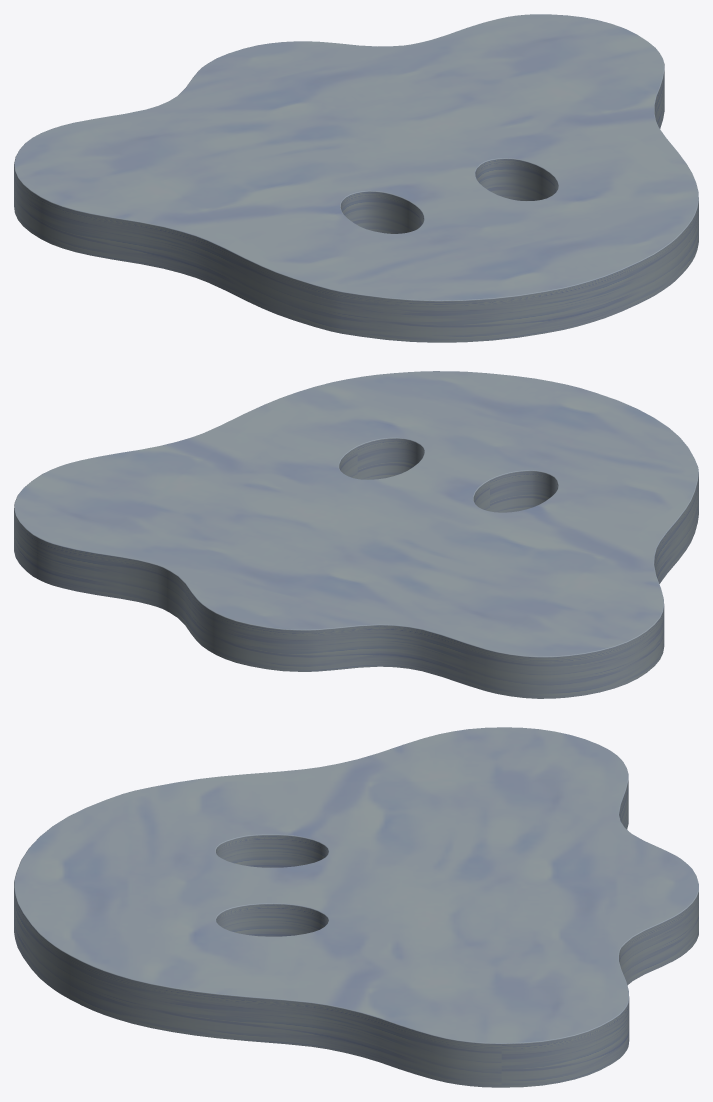
Rendered from ghost-island.glb.
3 renders of one model, top to bottom at view 1: azimuth 30°, elevation 25°; view 2: azimuth 150°, elevation 25°; view 3: azimuth 270°, elevation 25°, orthographic. The views are drawn at different scales.
Visible parts, largest first — view 1: geometry_0; view 2: geometry_0; view 3: geometry_0.
Boxes of the visible parts, x1=… form: geometry_0: x1=14, y1=14, x2=698, y2=342; geometry_0: x1=14, y1=371, x2=698, y2=698; geometry_0: x1=14, y1=727, x2=698, y2=1087.
Size of the model in its own units: 91.94 by 6 by 84.13.
1 material, 1 textured.
